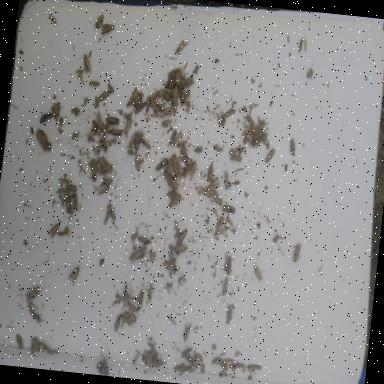pbw: (23, 287, 40, 306), (178, 158, 192, 180), (168, 154, 182, 176), (158, 104, 176, 121), (124, 89, 139, 109), (128, 248, 146, 264), (80, 53, 92, 77), (86, 118, 97, 140), (176, 84, 188, 104), (153, 158, 168, 174), (175, 38, 190, 54), (176, 227, 188, 246), (98, 176, 114, 190), (210, 190, 224, 206), (94, 112, 105, 132), (292, 243, 302, 265), (47, 222, 59, 240), (118, 314, 133, 328), (134, 100, 148, 115), (160, 260, 176, 273), (68, 266, 80, 283), (132, 90, 144, 107), (96, 89, 110, 103), (252, 266, 264, 282), (206, 180, 222, 192), (62, 195, 72, 214), (122, 118, 132, 137), (128, 132, 138, 151), (70, 193, 80, 212), (94, 12, 105, 29), (264, 148, 275, 165), (200, 186, 213, 200), (148, 98, 158, 116), (166, 160, 176, 178), (222, 170, 231, 190), (151, 360, 167, 371), (174, 66, 182, 88), (173, 244, 189, 255), (182, 324, 191, 343), (224, 106, 236, 120), (243, 114, 255, 128), (39, 342, 51, 356), (123, 311, 138, 322), (106, 206, 117, 221), (288, 138, 296, 158), (225, 256, 233, 276), (14, 334, 24, 350), (172, 86, 180, 106), (190, 160, 198, 180), (150, 88, 163, 100), (163, 171, 172, 188), (134, 152, 142, 171), (137, 140, 152, 150), (173, 364, 188, 374), (108, 128, 123, 138), (180, 348, 192, 360), (126, 302, 138, 314), (97, 185, 110, 196), (137, 290, 144, 310), (222, 205, 236, 215), (105, 117, 120, 126), (221, 278, 228, 297), (65, 184, 78, 194), (246, 364, 262, 372), (136, 236, 152, 244), (132, 351, 140, 367), (146, 351, 153, 369), (184, 354, 194, 366), (229, 156, 244, 164), (168, 75, 176, 90), (228, 362, 243, 370), (134, 133, 140, 152), (218, 361, 228, 372), (114, 316, 120, 334), (29, 338, 35, 356), (34, 337, 40, 353), (88, 80, 100, 88), (212, 358, 222, 366), (146, 97, 152, 110)
